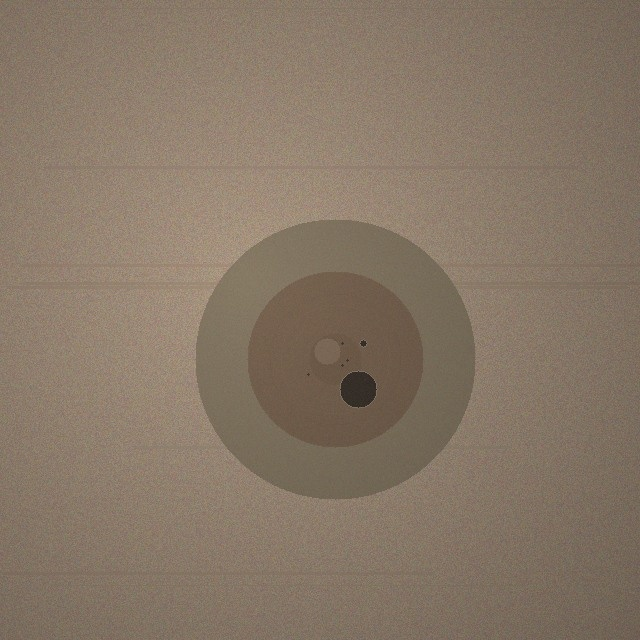shrinkage: (195, 219, 475, 499)
